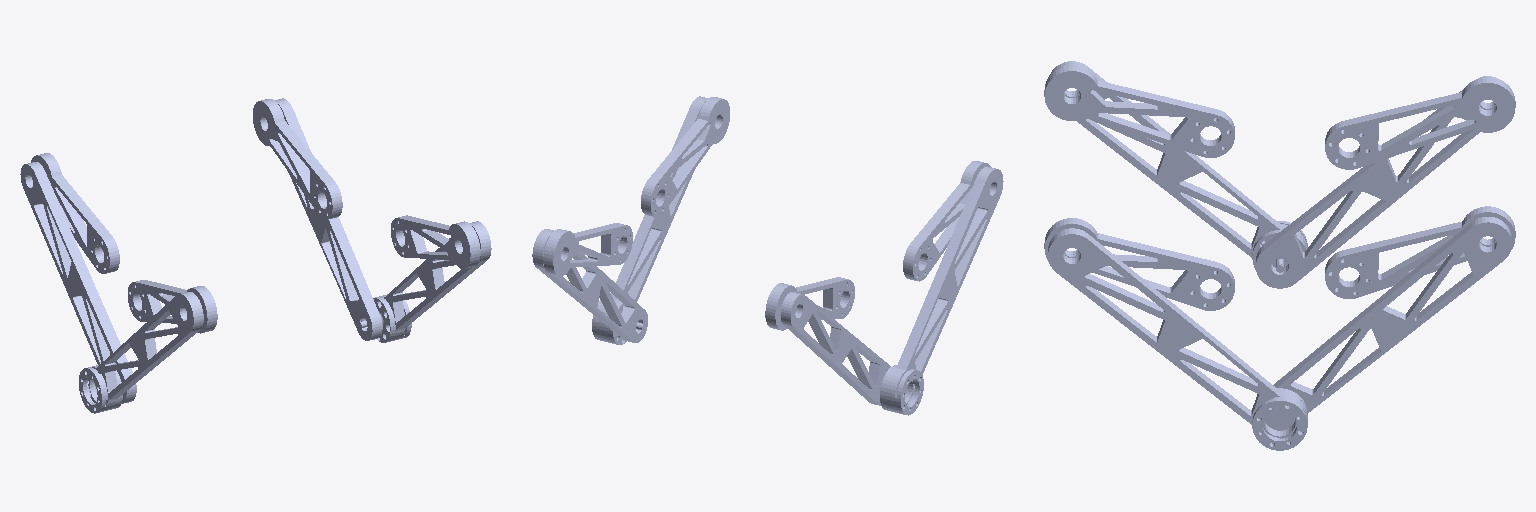
robot.urdf — robot_urdf:
<?xml version="1.0" encoding="utf-8"?>
<!-- This URDF was automatically created by SolidWorks to URDF Exporter! Originally created by [author] ([email redacted]) 
     Commit Version: 1.6.0-4-g7f85cfe  Build Version: 1.6.7995.38578
     For more information, please see http://wiki.ros.org/sw_urdf_exporter -->
<robot
  name="robot_urdf">
  <link
    name="base_link">
    <inertial>
      <origin
        xyz="-2.61217283333004E-06 -0.00278893163890215 0.0692851512841017"
        rpy="0 0 0" />
      <mass
        value="0.802449045107376" />
      <inertia
        ixx="0.00142736096194914"
        ixy="-9.89904802826923E-09"
        ixz="-6.38459823335977E-10"
        iyy="0.000977496631950996"
        iyz="-0.000140404023395889"
        izz="0.00153699214981949" />
    </inertial>
    <visual>
      <origin
        xyz="0 0 0"
        rpy="0 0 0" />
      <geometry>
        <mesh
          filename="package://robot_urdf/meshes/base_link.STL" />
      </geometry>
      <material
        name="">
        <color
          rgba="0.792156862745098 0.819607843137255 0.933333333333333 1" />
      </material>
    </visual>
    <collision>
      <origin
        xyz="0 0 0"
        rpy="0 0 0" />
      <geometry>
        <mesh
          filename="package://robot_urdf/meshes/base_link.STL" />
      </geometry>
    </collision>
  </link>
  <link
    name="lf1">
    <inertial>
      <origin
        xyz="0.00499999999999998 0.0567691886906982 0.00251721699118871"
        rpy="0 0 0" />
      <mass
        value="0.0299100661165302" />
      <inertia
        ixx="6.17837432471491E-05"
        ixy="-1.64689285437235E-21"
        ixz="-2.93586260551827E-22"
        iyy="3.69659916812915E-06"
        iyz="-2.94901023851329E-06"
        izz="5.85856451809621E-05" />
    </inertial>
    <visual>
      <origin
        xyz="0 0 0"
        rpy="0 0 0" />
      <geometry>
        <mesh
          filename="package://robot_urdf/meshes/lf1.STL" />
      </geometry>
      <material
        name="">
        <color
          rgba="0.792156862745098 0.819607843137255 0.933333333333333 1" />
      </material>
    </visual>
    <collision>
      <origin
        xyz="0 0 0"
        rpy="0 0 0" />
      <geometry>
        <mesh
          filename="package://robot_urdf/meshes/lf1.STL" />
      </geometry>
    </collision>
  </link>
  <joint
    name="lf1"
    type="continuous">
    <origin
      xyz="-0.1155 0.049267 0.085"
      rpy="0.2618 0 0" />
    <parent
      link="base_link" />
    <child
      link="lf1" />
    <axis
      xyz="1 0 0" />
  </joint>
  <link
    name="lf2">
    <inertial>
      <origin
        xyz="0.00363810104889919 -0.117492993229909 -0.00146834109121485"
        rpy="0 0 0" />
      <mass
        value="0.0524688364343464" />
      <inertia
        ixx="0.000230997606993951"
        ixy="2.79683321643803E-22"
        ixz="3.44746047595323E-21"
        iyy="6.08530959442362E-06"
        iyz="-3.00854845101563E-06"
        izz="0.00022588397393828" />
    </inertial>
    <visual>
      <origin
        xyz="0 0 0"
        rpy="0 0 0" />
      <geometry>
        <mesh
          filename="package://robot_urdf/meshes/lf2.STL" />
      </geometry>
      <material
        name="">
        <color
          rgba="0.792156862745098 0.819607843137255 0.933333333333333 1" />
      </material>
    </visual>
    <collision>
      <origin
        xyz="0 0 0"
        rpy="0 0 0" />
      <geometry>
        <mesh
          filename="package://robot_urdf/meshes/lf2.STL" />
      </geometry>
    </collision>
  </link>
  <joint
    name="lf2"
    type="continuous">
    <origin
      xyz="-0.0122 0.10488 0.005"
      rpy="0.44834 0 0" />
    <parent
      link="lf1" />
    <child
      link="lf2" />
    <axis
      xyz="1 0 0" />
  </joint>
  <link
    name="left_empty">
    <inertial>
      <origin
        xyz="0.005 0.09394 0.0011748"
        rpy="0 0 0" />
      <mass
        value="0.046074" />
      <inertia
        ixx="0.00022997"
        ixy="-3.0752E-22"
        ixz="1.1789E-21"
        iyy="5.4715E-06"
        iyz="-3.0085E-06"
        izz="0.00022527" />
    </inertial>
    <visual>
      <origin
        xyz="0 0 0"
        rpy="0 0 0" />
      <geometry>
        <mesh
          filename="package://robot_urdf/meshes/left_empty.STL" />
      </geometry>
      <material
        name="">
        <color
          rgba="0.79216 0.81961 0.93333 1" />
      </material>
    </visual>
    <collision>
      <origin
        xyz="0 0 0"
        rpy="0 0 0" />
      <geometry>
        <mesh
          filename="package://robot_urdf/meshes/left_empty.STL" />
      </geometry>
    </collision>
  </link>
  <joint
    name="left_empty"
    type="continuous">
    <origin
      xyz="0 -0.19998 -0.0025"
      rpy="0 0 0" />
    <parent
      link="lf2" />
    <child
      link="left_empty" />
    <axis
      xyz="1 0 0" />
  </joint>
  <link
    name="lr1">
    <inertial>
      <origin
        xyz="0.00500000000000003 -0.0567511950415906 0.00289465495908836"
        rpy="0 0 0" />
      <mass
        value="0.0299100661165302" />
      <inertia
        ixx="6.17837432471492E-05"
        ixy="1.36034816744403E-20"
        ixz="-3.18618704284248E-22"
        iyy="3.63479563007867E-06"
        iyz="2.30228244699318E-06"
        izz="5.86474487190126E-05" />
    </inertial>
    <visual>
      <origin
        xyz="0 0 0"
        rpy="0 0 0" />
      <geometry>
        <mesh
          filename="package://robot_urdf/meshes/lr1.STL" />
      </geometry>
      <material
        name="">
        <color
          rgba="0.792156862745098 0.819607843137255 0.933333333333333 1" />
      </material>
    </visual>
    <collision>
      <origin
        xyz="0 0 0"
        rpy="0 0 0" />
      <geometry>
        <mesh
          filename="package://robot_urdf/meshes/lr1.STL" />
      </geometry>
    </collision>
  </link>
  <joint
    name="lr1"
    type="continuous">
    <origin
      xyz="-0.1355 -0.050733 0.085"
      rpy="-0.2618 0 0" />
    <parent
      link="base_link" />
    <child
      link="lr1" />
    <axis
      xyz="-1 0 0" />
  </joint>
  <link
    name="lr2">
    <inertial>
      <origin
        xyz="0.00440807206810112 0.101938006392341 0.00121787146678219"
        rpy="0 0 0" />
      <mass
        value="0.0495568188908613" />
      <inertia
        ixx="0.00023700805914025"
        ixy="-1.5716695763424E-09"
        ixz="7.14779215213405E-09"
        iyy="6.42812596484795E-06"
        iyz="-3.08159399543276E-06"
        izz="0.000231365228632416" />
    </inertial>
    <visual>
      <origin
        xyz="0 0 0"
        rpy="0 0 0" />
      <geometry>
        <mesh
          filename="package://robot_urdf/meshes/lr2.STL" />
      </geometry>
      <material
        name="">
        <color
          rgba="0.792156862745098 0.819607843137255 0.933333333333333 1" />
      </material>
    </visual>
    <collision>
      <origin
        xyz="0 0 0"
        rpy="0 0 0" />
      <geometry>
        <mesh
          filename="package://robot_urdf/meshes/lr2.STL" />
      </geometry>
    </collision>
  </link>
  <joint
    name="lr2"
    type="continuous">
    <origin
      xyz="-0.0122 -0.10488 0.005"
      rpy="-0.47334 0 0" />
    <parent
      link="lr1" />
    <child
      link="lr2" />
    <axis
      xyz="1 0 0" />
  </joint>
  <link
    name="left">
    <inertial>
      <origin
        xyz="-0.0012983 -1.7299E-05 6.3314E-05"
        rpy="0 0 0" />
      <mass
        value="0.23011" />
      <inertia
        ixx="0.00041723"
        ixy="1.3556E-08"
        ixz="-4.9618E-08"
        iyy="0.00022525"
        iyz="1.2766E-07"
        izz="0.00022481" />
    </inertial>
    <visual>
      <origin
        xyz="0 0 0"
        rpy="0 0 0" />
      <geometry>
        <mesh
          filename="package://robot_urdf/meshes/left.STL" />
      </geometry>
      <material
        name="">
        <color
          rgba="0.89804 0.91765 0.92941 1" />
      </material>
    </visual>
    <collision>
      <origin
        xyz="0 0 0"
        rpy="0 0 0" />
      <geometry>
        <mesh
          filename="package://robot_urdf/meshes/left.STL" />
      </geometry>
    </collision>
  </link>
  <joint
    name="left"
    type="continuous">
    <origin
      xyz="-0.02 0.19998 0.0025"
      rpy="0.73514 0 0" />
    <parent
      link="lr2" />
    <child
      link="left" />
    <axis
      xyz="1 0 0" />
  </joint>
  <link
    name="rf1">
    <inertial>
      <origin
        xyz="-0.00500000000000001 0.0567691886906982 0.00251721699118871"
        rpy="0 0 0" />
      <mass
        value="0.0299100661165301" />
      <inertia
        ixx="6.1783743247149E-05"
        ixy="1.11522044886178E-20"
        ixz="2.31721225537066E-22"
        iyy="3.69659916812915E-06"
        iyz="-2.94901023851329E-06"
        izz="5.8585645180962E-05" />
    </inertial>
    <visual>
      <origin
        xyz="0 0 0"
        rpy="0 0 0" />
      <geometry>
        <mesh
          filename="package://robot_urdf/meshes/rf1.STL" />
      </geometry>
      <material
        name="">
        <color
          rgba="0.792156862745098 0.819607843137255 0.933333333333333 1" />
      </material>
    </visual>
    <collision>
      <origin
        xyz="0 0 0"
        rpy="0 0 0" />
      <geometry>
        <mesh
          filename="package://robot_urdf/meshes/rf1.STL" />
      </geometry>
    </collision>
  </link>
  <joint
    name="rf1"
    type="continuous">
    <origin
      xyz="0.1155 0.049267 0.085"
      rpy="0.2618 0 0" />
    <parent
      link="base_link" />
    <child
      link="rf1" />
    <axis
      xyz="-1 0 0" />
  </joint>
  <link
    name="rf2">
    <inertial>
      <origin
        xyz="-0.00363810104889918 -0.10686390239861 0.00133546707463558"
        rpy="0 0 0" />
      <mass
        value="0.0524688364343463" />
      <inertia
        ixx="0.00023099760699395"
        ixy="3.89797946157501E-21"
        ixz="-1.03082475275925E-21"
        iyy="6.07229362987275E-06"
        iyz="2.48803190159505E-06"
        izz="0.000225896989902831" />
    </inertial>
    <visual>
      <origin
        xyz="0 0 0"
        rpy="0 0 0" />
      <geometry>
        <mesh
          filename="package://robot_urdf/meshes/rf2.STL" />
      </geometry>
      <material
        name="">
        <color
          rgba="0.792156862745098 0.819607843137255 0.933333333333333 1" />
      </material>
    </visual>
    <collision>
      <origin
        xyz="0 0 0"
        rpy="0 0 0" />
      <geometry>
        <mesh
          filename="package://robot_urdf/meshes/rf2.STL" />
      </geometry>
    </collision>
  </link>
  <joint
    name="rf2"
    type="continuous">
    <origin
      xyz="0.0122 0.10488 0.005"
      rpy="0.47334 0 0" />
    <parent
      link="rf1" />
    <child
      link="rf2" />
    <axis
      xyz="1 0 0" />
  </joint>
  <link
    name="right_empty">
    <inertial>
      <origin
        xyz="-0.005 0.10604 -0.0013262"
        rpy="0 0 0" />
      <mass
        value="0.046074" />
      <inertia
        ixx="0.00022997"
        ixy="4.3107E-21"
        ixz="9.147E-22"
        iyy="5.4585E-06"
        iyz="2.488E-06"
        izz="0.00022528" />
    </inertial>
    <visual>
      <origin
        xyz="0 0 0"
        rpy="0 0 0" />
      <geometry>
        <mesh
          filename="package://robot_urdf/meshes/right_empty.STL" />
      </geometry>
      <material
        name="">
        <color
          rgba="0.79216 0.81961 0.93333 1" />
      </material>
    </visual>
    <collision>
      <origin
        xyz="0 0 0"
        rpy="0 0 0" />
      <geometry>
        <mesh
          filename="package://robot_urdf/meshes/right_empty.STL" />
      </geometry>
    </collision>
  </link>
  <joint
    name="right_empty"
    type="continuous">
    <origin
      xyz="0 -0.199984374389601 0.0025"
      rpy="0 0 0" />
    <parent
      link="rf2" />
    <child
      link="right_empty" />
    <axis
      xyz="1 0 0" />
  </joint>
  <link
    name="rr1">
    <inertial>
      <origin
        xyz="-0.00500000000000001 -0.0567511950415906 0.00289465495908836"
        rpy="0 0 0" />
      <mass
        value="0.0299100661165301" />
      <inertia
        ixx="6.17837432471491E-05"
        ixy="-1.60731700813253E-20"
        ixz="5.72955321372439E-23"
        iyy="3.63479563007868E-06"
        iyz="2.30228244699319E-06"
        izz="5.86474487190126E-05" />
    </inertial>
    <visual>
      <origin
        xyz="0 0 0"
        rpy="0 0 0" />
      <geometry>
        <mesh
          filename="package://robot_urdf/meshes/rr1.STL" />
      </geometry>
      <material
        name="">
        <color
          rgba="0.792156862745098 0.819607843137255 0.933333333333333 1" />
      </material>
    </visual>
    <collision>
      <origin
        xyz="0 0 0"
        rpy="0 0 0" />
      <geometry>
        <mesh
          filename="package://robot_urdf/meshes/rr1.STL" />
      </geometry>
    </collision>
  </link>
  <joint
    name="rr1"
    type="continuous">
    <origin
      xyz="0.1355 -0.050733 0.085"
      rpy="-0.2618 0 0" />
    <parent
      link="base_link" />
    <child
      link="rr1" />
    <axis
      xyz="-1 0 0" />
  </joint>
  <link
    name="rr2">
    <inertial>
      <origin
        xyz="-0.0044081 0.10198 0.0012962"
        rpy="0 0 0" />
      <mass
        value="0.049557" />
      <inertia
        ixx="0.00023701"
        ixy="6.7939E-09"
        ixz="2.7211E-09"
        iyy="6.4644E-06"
        iyz="-3.0569E-06"
        izz="0.00023133" />
    </inertial>
    <visual>
      <origin
        xyz="0 0 0"
        rpy="0 0 0" />
      <geometry>
        <mesh
          filename="package://robot_urdf/meshes/rr2.STL" />
      </geometry>
      <material
        name="">
        <color
          rgba="0.79216 0.81961 0.93333 1" />
      </material>
    </visual>
    <collision>
      <origin
        xyz="0 0 0"
        rpy="0 0 0" />
      <geometry>
        <mesh
          filename="package://robot_urdf/meshes/rr2.STL" />
      </geometry>
    </collision>
  </link>
  <joint
    name="rr2"
    type="continuous">
    <origin
      xyz="0.0122 -0.10488 0.005"
      rpy="-0.47334 0 0" />
    <parent
      link="rr1" />
    <child
      link="rr2" />
    <axis
      xyz="1 0 0" />
  </joint>
  <link
    name="right">
    <inertial>
      <origin
        xyz="0.0012983 -2.7433E-05 5.9627E-05"
        rpy="0 0 0" />
      <mass
        value="0.23011" />
      <inertia
        ixx="0.00041723"
        ixy="-2.1499E-08"
        ixz="4.6728E-08"
        iyy="0.00022519"
        iyz="1.9067E-07"
        izz="0.00022487" />
    </inertial>
    <visual>
      <origin
        xyz="0 0 0"
        rpy="0 0 0" />
      <geometry>
        <mesh
          filename="package://robot_urdf/meshes/right.STL" />
      </geometry>
      <material
        name="">
        <color
          rgba="0.89804 0.91765 0.92941 1" />
      </material>
    </visual>
    <collision>
      <origin
        xyz="0 0 0"
        rpy="0 0 0" />
      <geometry>
        <mesh
          filename="package://robot_urdf/meshes/right.STL" />
      </geometry>
    </collision>
  </link>
  <joint
    name="right"
    type="continuous">
    <origin
      xyz="0.02 0.199984374389601 0.00249999999999994"
      rpy="0.735135842729372 0 0" />
    <parent
      link="rr2" />
    <child
      link="right" />
    <axis
      xyz="-1 0 0" />
  </joint>
</robot>

--- Facts derived from the render (not from the file) ---
Views: 3 orthographic renders of the robot side by side, from view 1: azimuth 30°, elevation 25°; view 2: azimuth 150°, elevation 25°; view 3: azimuth 270°, elevation 25°.
Model robot_urdf with 13 links and 12 joints (12 continuous), rooted at base_link, posed all joints at 0.
Visible links, largest first — view 1: lr2, rf2, lf2, rf1, rr1, lf1, rr2, lr1, left_empty, right_empty; view 2: lr2, rr1, rr2, left_empty, rf1, lr1, rf2, lf1, lf2, right_empty; view 3: rr2, rf2, lr1, lf1, lr2, lf2, rr1, rf1, left_empty, right_empty.
Boxes of the visible links, x1,y1,x2,y2 form: lr2: (79,292,203,413); rf2: (275,98,395,342); lf2: (20,164,136,408); rf1: (253,99,342,219); rr1: (391,215,480,268); lf1: (31,153,119,273); rr2: (379,221,491,341); lr1: (128,280,217,333); left_empty: (21,162,132,399); right_empty: (279,101,382,339); lr2: (885,166,1003,415); rr1: (641,97,729,217); rr2: (592,96,707,343); left_empty: (780,292,890,405); rf1: (543,223,632,276); lr1: (903,161,990,281); rf2: (532,230,647,344); lf1: (765,277,854,330); lf2: (791,294,896,410); right_empty: (533,229,647,342); rr2: (1048,228,1307,450); rf2: (1265,217,1511,430); lr1: (1044,65,1234,157); lf1: (1325,77,1515,169); lr2: (1049,61,1307,257); lf2: (1252,103,1495,288); rr1: (1044,218,1234,310); rf1: (1325,206,1515,298); left_empty: (1256,76,1497,287); right_empty: (1275,217,1510,411).
Bounding box of the posed robot: 0.3074 × 0.34 × 0.1723 m (x, y, z).
10 mesh visuals loaded from 13 distinct referenced files (10 binary STL); not drawn: 3 (reference not matched to a file when rendering).